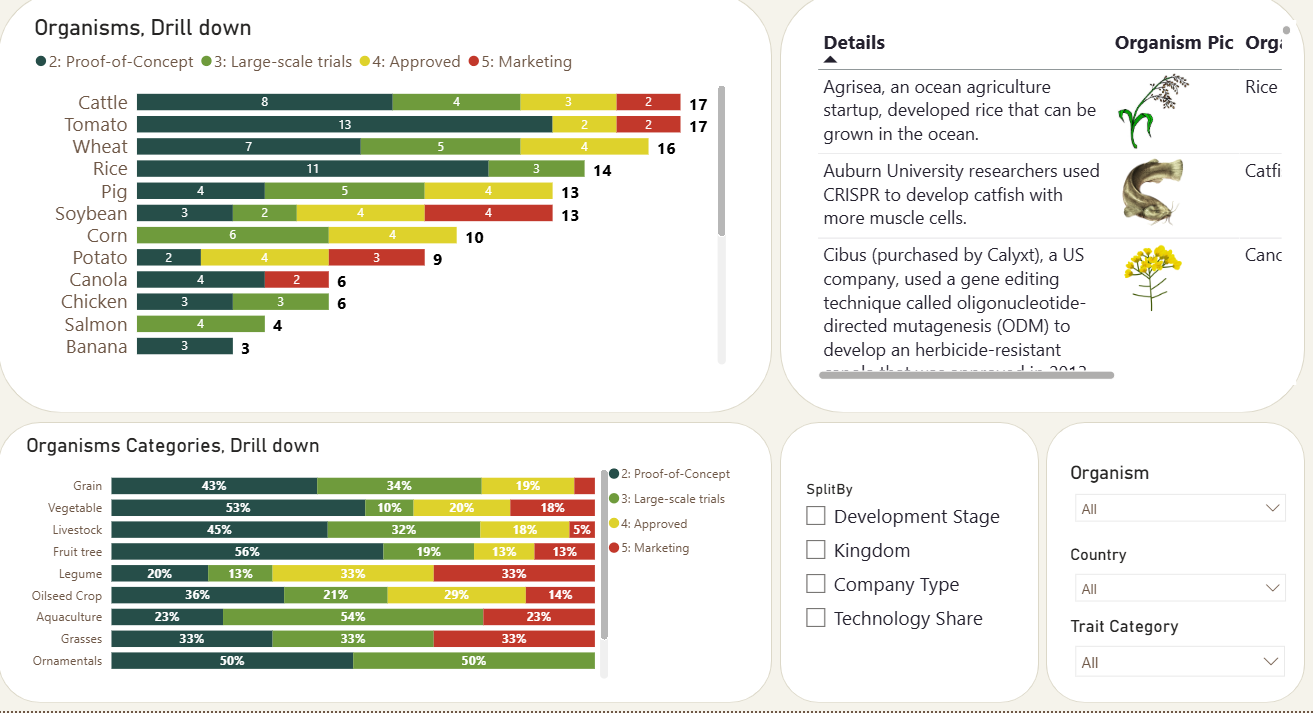

What the dashboard file says about the page in this screenshot:
{"tool":"powerbi","page":{"name":"Additional","canvas":[1280,720],"ordinal":1},"visuals":[{"type":"shape","box":[760.6,20.4,510.6,409.5],"z":0},{"type":"shape","box":[0,20.4,752.8,409.5],"z":1000},{"type":"shape","box":[0,438.7,752.8,273.3],"z":2000},{"type":"shape","box":[760.6,438.7,251.9,273.3],"z":3000},{"type":"barChart","title":"Organisms, Drill down","fields":{"Series":["tabProductMaster.Stage of Development_less categories"],"Y":["CountNonNull(tabProductMaster.Trait type)"],"Category":["tabProductMaster.Organisms"]},"box":[30.2,41.8,682.8,360.9],"z":4000},{"type":"tableEx","title":"Details","fields":{"Values":["tabProductMaster.Details","Images_support.Organism","Icon for Categories.Category Icons","tabProductMaster.Reference"]},"box":[786.9,47.7,459.1,355],"z":5000},{"type":"slicer","fields":{"Values":["SplitBy.SplitBy"]},"box":[773.3,490.2,226.6,191.6],"z":6000},{"type":"hundredPercentStackedBarChart","title":"Organisms Categories, Drill down","fields":{"Series":["tabProductMaster.Stage of Development_less categories"],"Y":["CountNonNull(tabProductMaster.Trait type)"],"Category":["tabProductMaster.Organism Category"]},"box":[22.4,449.4,704.2,252.9],"z":7000},{"type":"shape","box":[1019.3,438.7,251.9,273.3],"z":8000},{"type":"slicer","title":"Country","fields":{"Values":["tabProductMaster.Country"]},"box":[1037.8,558.3,224.7,69.1],"z":9000},{"type":"slicer","title":"Trait Category","fields":{"Values":["tabProductMaster.Trait type"]},"box":[1037.8,627.4,223.7,64.2],"z":10000},{"type":"slicer","title":"Organism","fields":{"Values":["tabProductMaster.Organisms"]},"box":[1037.8,477.6,224.7,68.1],"z":11000}]}

Visuals, with their boxes on the page's 1280x720 design canvas (x1, y1, x2, y2). These are canvas units, not pixel positions in the 1313x713 screenshot, which may show the page scaled, cropped or inside an application window:
shape: 761, 20, 1271, 430
shape: 0, 20, 753, 430
shape: 0, 439, 753, 712
shape: 761, 439, 1012, 712
"Organisms, Drill down" barChart: 30, 42, 713, 403
"Details" tableEx: 787, 48, 1246, 403
slicer - SplitBy.SplitBy: 773, 490, 1000, 682
"Organisms Categories, Drill down" hundredPercentStackedBarChart: 22, 449, 727, 702
shape: 1019, 439, 1271, 712
"Country" slicer: 1038, 558, 1262, 627
"Trait Category" slicer: 1038, 627, 1262, 692
"Organism" slicer: 1038, 478, 1262, 546
